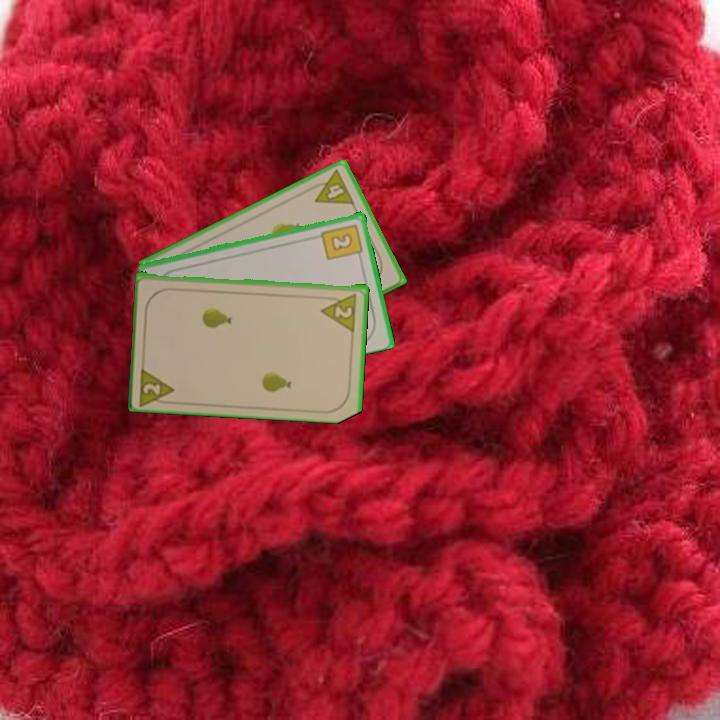2b: (318, 220, 366, 263)
2p: (136, 362, 178, 407), (318, 290, 360, 333)
4p: (305, 166, 357, 208)
